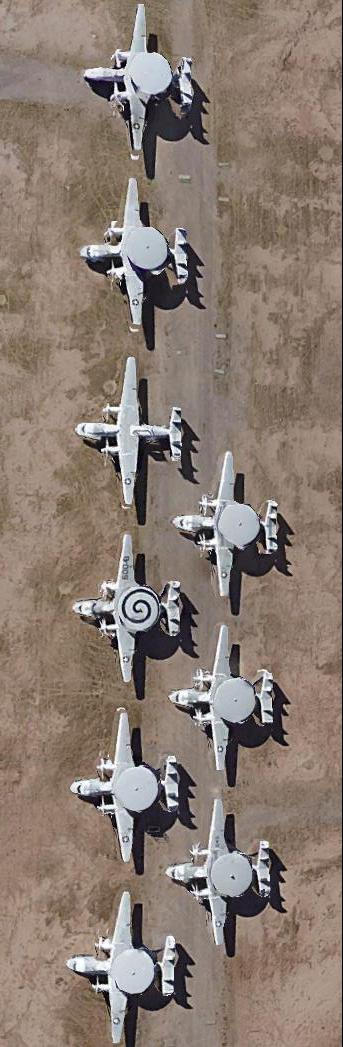E-3: (66, 888, 190, 1047), (73, 350, 194, 511), (172, 444, 290, 603), (67, 707, 182, 868), (80, 176, 197, 333), (163, 799, 282, 951), (73, 530, 185, 691), (80, 4, 195, 158), (165, 624, 282, 775)
